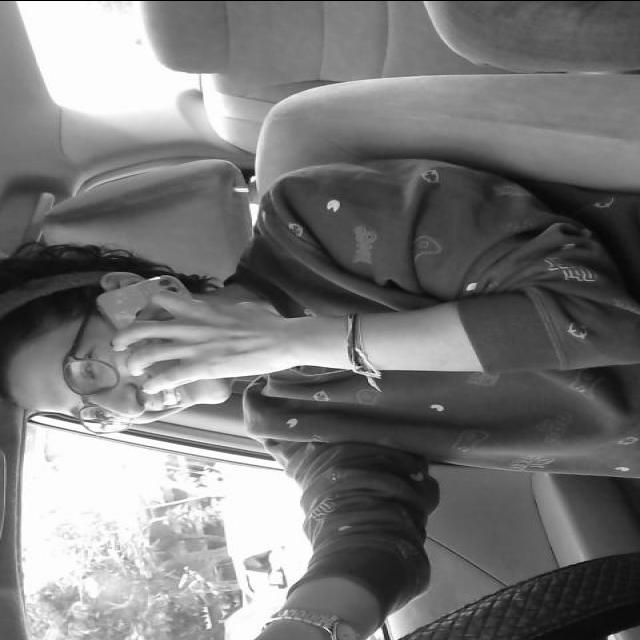mobile use: (93, 272, 230, 392)
